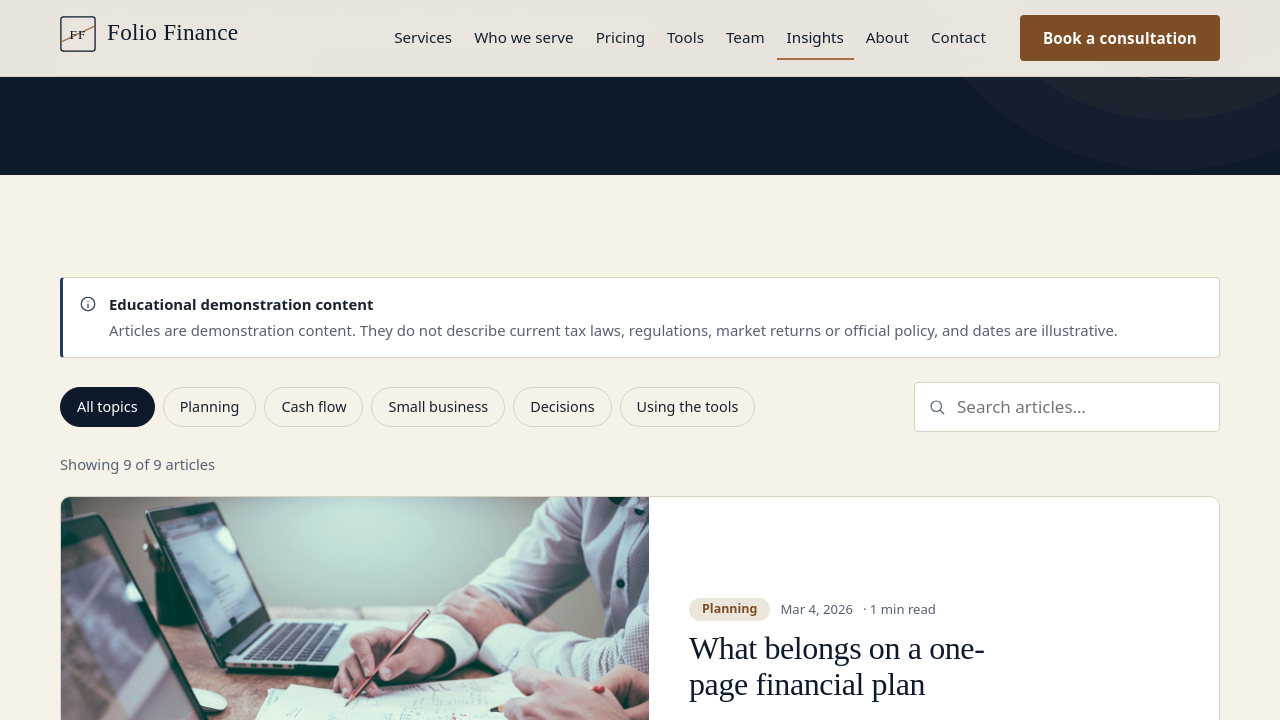
Test: insights › searches, filters, opens an article and shows related items
(page scrolled)
In the search field labelled "Search articles…": (1067, 407) left=914, top=382, right=1220, bottom=432, type "runway"
(page scrolled)
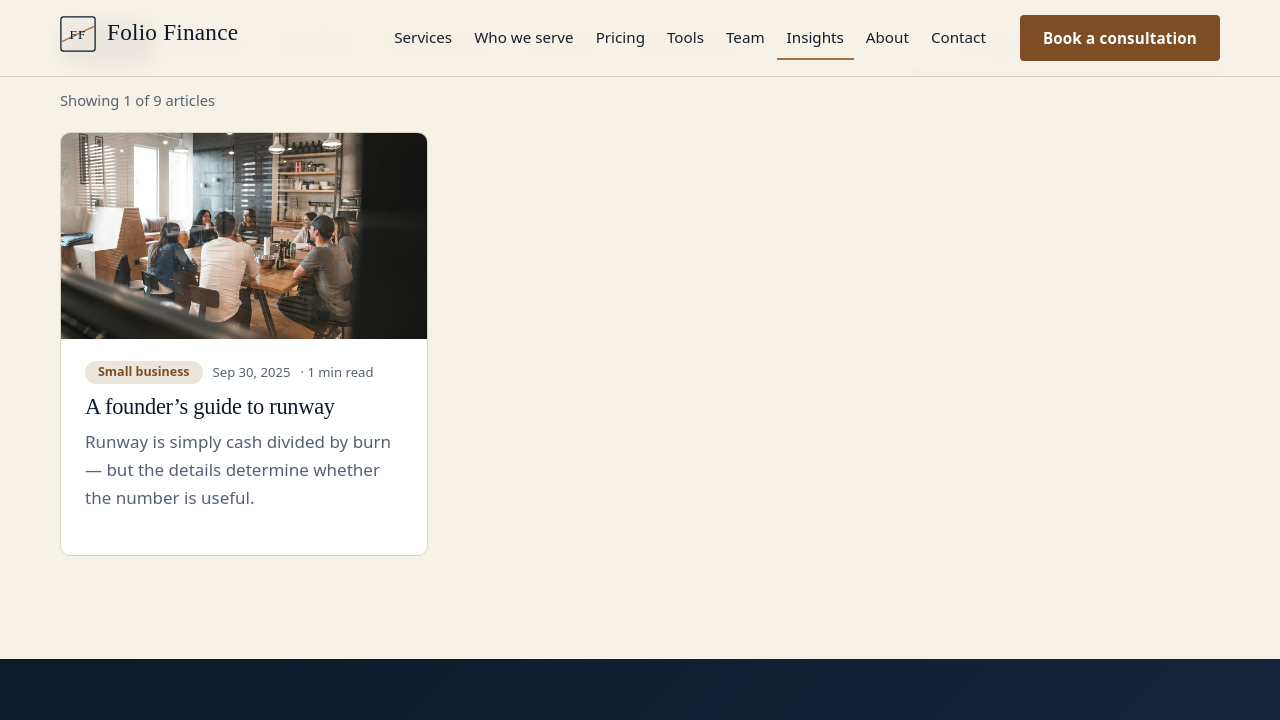
Expected: the link "one-page financial plan" is gone
Click the link "A founder’s guide to runway": (210, 407) left=85, top=394, right=335, bottom=419
(page scrolled)
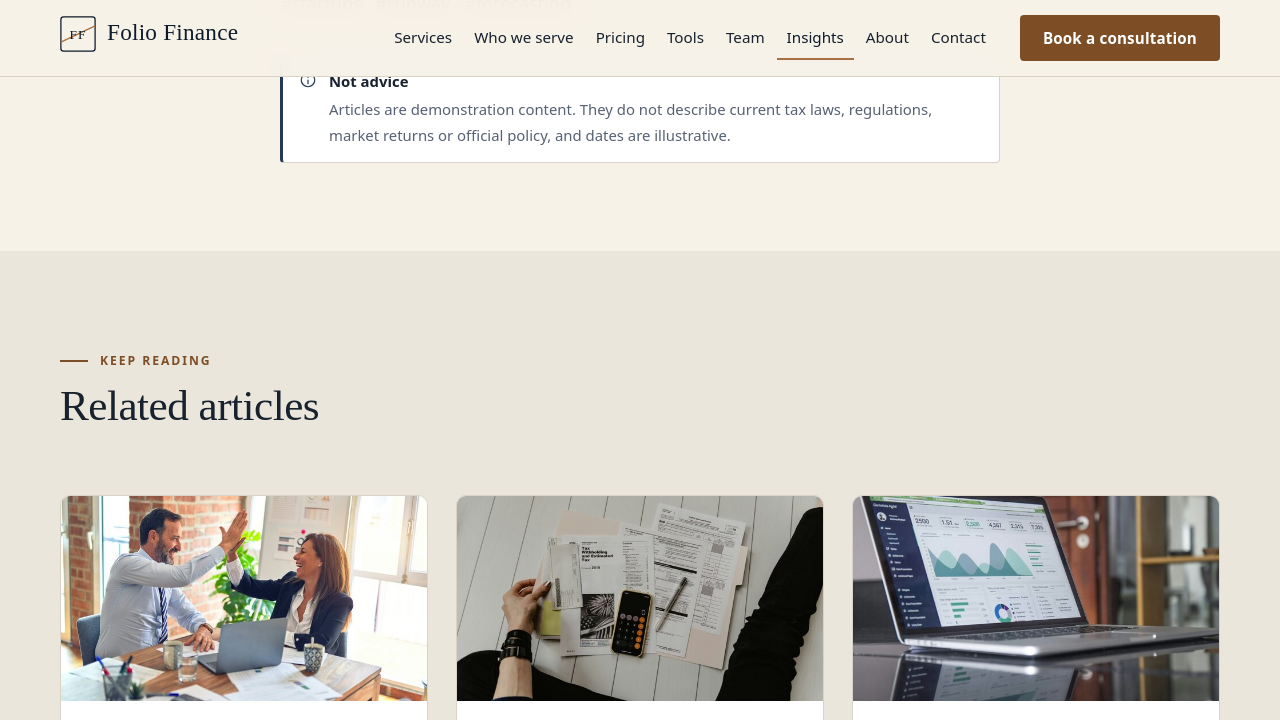
Expected: the heading "Related articles" is shown, left=60, top=382, right=319, bottom=430
